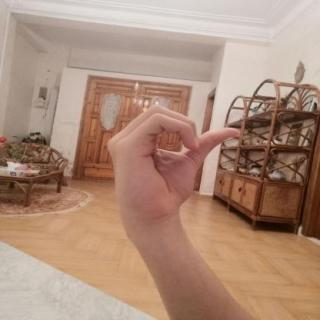WAW: (96, 97, 249, 233)
